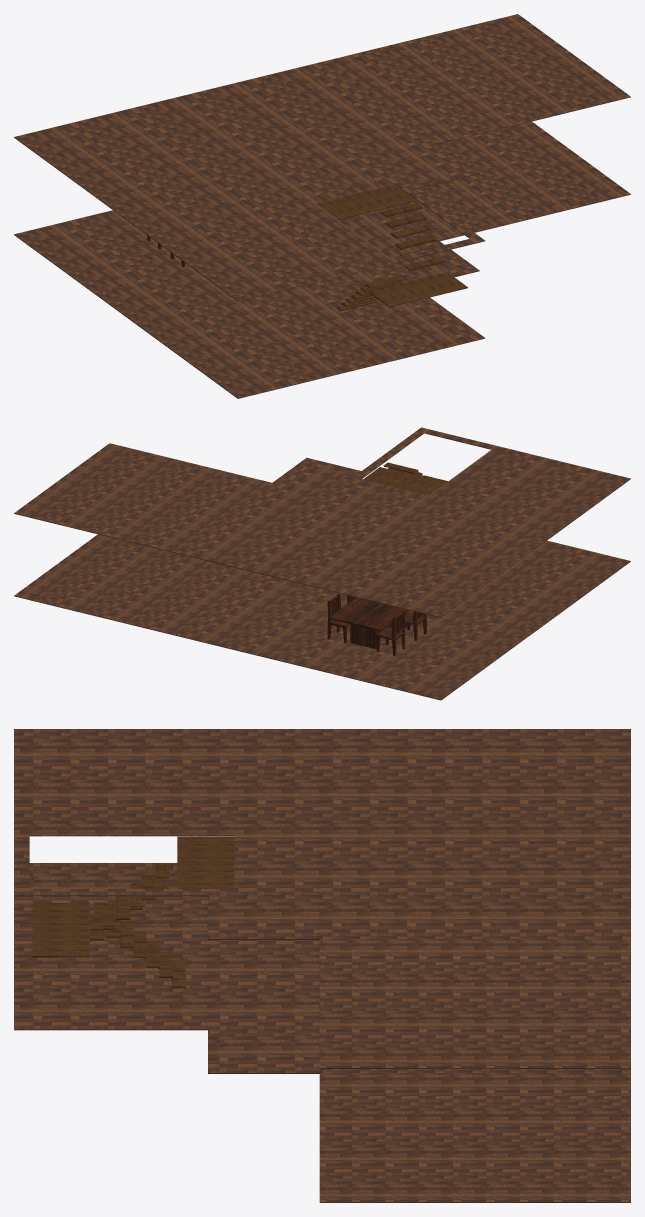
The model's file is maderas.fbx.
The picture shows the model from 3 angles, top to bottom: view 1: azimuth 30°, elevation 25°; view 2: azimuth 150°, elevation 25°; view 3: azimuth 270°, elevation 25°; orthographic projection. The views are drawn at different scales.
Parts seen in each view (by area): view 1: P2_Piso, PB_piso, wood; view 2: P2_Piso, PB_piso, Mesa, wood, Silla.001, Silla.003, Silla.002; view 3: P2_Piso, PB_piso, wood.
Part boxes in pixels (<box>): P2_Piso: <box>14,14,630,301</box>; PB_piso: <box>14,121,630,398</box>; wood: <box>317,185,467,310</box>; P2_Piso: <box>14,427,630,617</box>; PB_piso: <box>14,534,630,700</box>; Mesa: <box>329,597,409,649</box>; wood: <box>363,462,447,495</box>; Silla.001: <box>376,610,405,655</box>; Silla.003: <box>327,593,350,643</box>; Silla.002: <box>405,611,426,640</box>; P2_Piso: <box>14,729,630,1068</box>; PB_piso: <box>14,863,630,1202</box>; wood: <box>32,836,234,989</box>.
Bounding box in the file's own units: 1642 × 305 × 1264.
8 materials, 8 textured.
